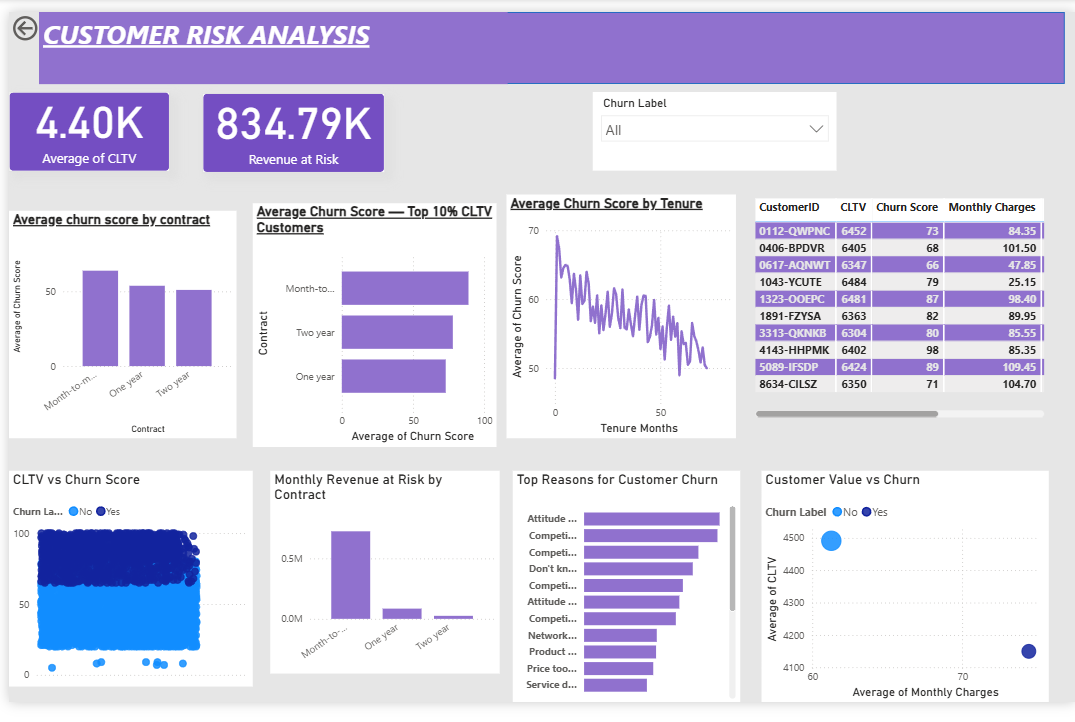

Layout of this report page (visuals, bound fields, positions):
{"tool":"powerbi","page":{"name":"Demographics","canvas":[1312,850],"ordinal":1},"visuals":[{"type":"clusteredBarChart","title":"Top Reasons for Customer Churn","fields":{"Category":["Telco_customer_churn.Churn Reason"],"Y":["Telco_customer_churn.Churned_customer"]},"box":[620.3,565.2,279.7,285.5],"z":0},{"type":"clusteredColumnChart","title":"Average churn score by contract","fields":{"Category":["Telco_customer_churn.Contract"],"Y":["Avg(Telco_customer_churn.Churn Score)"]},"box":[0,244.9,280,280],"z":1000},{"type":"scatterChart","title":"Customer Value vs Churn","fields":{"Y":["Avg(Telco_customer_churn.CLTV)"],"X":["Avg(Telco_customer_churn.Monthly Charges)"],"Series":["Telco_customer_churn.Churn Label"],"Size":["Avg(Telco_customer_churn.Tenure Months)"]},"box":[926.1,565.2,353.6,285.5],"z":2000},{"type":"actionButton","box":[0,0,100,40],"z":4000},{"type":"cardVisual","fields":{"Data":["Avg(Telco_customer_churn.CLTV)"]},"box":[0,98.6,198.6,98.6],"z":5000},{"type":"cardVisual","fields":{"Data":["Telco_customer_churn.Revenue at Risk"]},"box":[239.1,100,224.6,98.6],"z":6000},{"type":"clusteredBarChart","title":"Average Churn Score — Top 10% CLTV Customers","fields":{"Category":["Telco_customer_churn.Contract"],"Y":["Avg(Telco_customer_churn.Churn Score)"]},"box":[300,234.8,300,300],"z":8000},{"type":"lineChart","title":"Average Churn Score by Tenure","fields":{"Category":["Telco_customer_churn.Tenure Months"],"Y":["Avg(Telco_customer_churn.Churn Score)"]},"box":[613,224.6,282.6,300],"z":8001},{"type":"tableEx","fields":{"Values":["Telco_customer_churn.CustomerID","Telco_customer_churn.CLTV","Telco_customer_churn.Churn Score","Telco_customer_churn.Monthly Charges","Telco_customer_churn.Contract","Telco_customer_churn.Churn Label"]},"box":[913,224.6,366.7,279.7],"z":8002},{"type":"scatterChart","title":"CLTV vs Churn Score","fields":{"X":["Telco_customer_churn.CLTV"],"Y":["Telco_customer_churn.Churn Score"],"Series":["Telco_customer_churn.Churn Label"]},"box":[0,565.2,300,265.2],"z":8003},{"type":"clusteredColumnChart","title":"Monthly Revenue at Risk by Contract","fields":{"Category":["Telco_customer_churn.Contract"],"Y":["Sum(Telco_customer_churn.Monthly Charges)"]},"box":[321.7,565.2,282.6,249.3],"z":8004},{"type":"shape","box":[36.2,0,1262.3,88.4],"z":8005},{"type":"textbox","box":[36.2,0,576.8,88.4],"z":8006},{"type":"slicer","fields":{"Values":["Telco_customer_churn.Churn Label"]},"box":[718.8,98.6,300,97.1],"z":8007}]}

Visuals, with their boxes on the page's 1312x850 design canvas (x1, y1, x2, y2). These are canvas units, not pixel positions in the 1075x722 screenshot, which may show the page scaled, cropped or inside an application window:
"Top Reasons for Customer Churn" clusteredBarChart: 620/565/900/851
"Average churn score by contract" clusteredColumnChart: 0/245/280/525
"Customer Value vs Churn" scatterChart: 926/565/1280/851
actionButton: 0/0/100/40
cardVisual - Avg(Telco_customer_churn.CLTV): 0/99/199/197
cardVisual - Telco_customer_churn.Revenue at Risk: 239/100/464/199
"Average Churn Score — Top 10% CLTV Customers" clusteredBarChart: 300/235/600/535
"Average Churn Score by Tenure" lineChart: 613/225/896/525
tableEx - Telco_customer_churn.CustomerID x Telco_customer_churn.CLTV: 913/225/1280/504
"CLTV vs Churn Score" scatterChart: 0/565/300/830
"Monthly Revenue at Risk by Contract" clusteredColumnChart: 322/565/604/814
shape: 36/0/1298/88
textbox: 36/0/613/88
slicer - Telco_customer_churn.Churn Label: 719/99/1019/196
